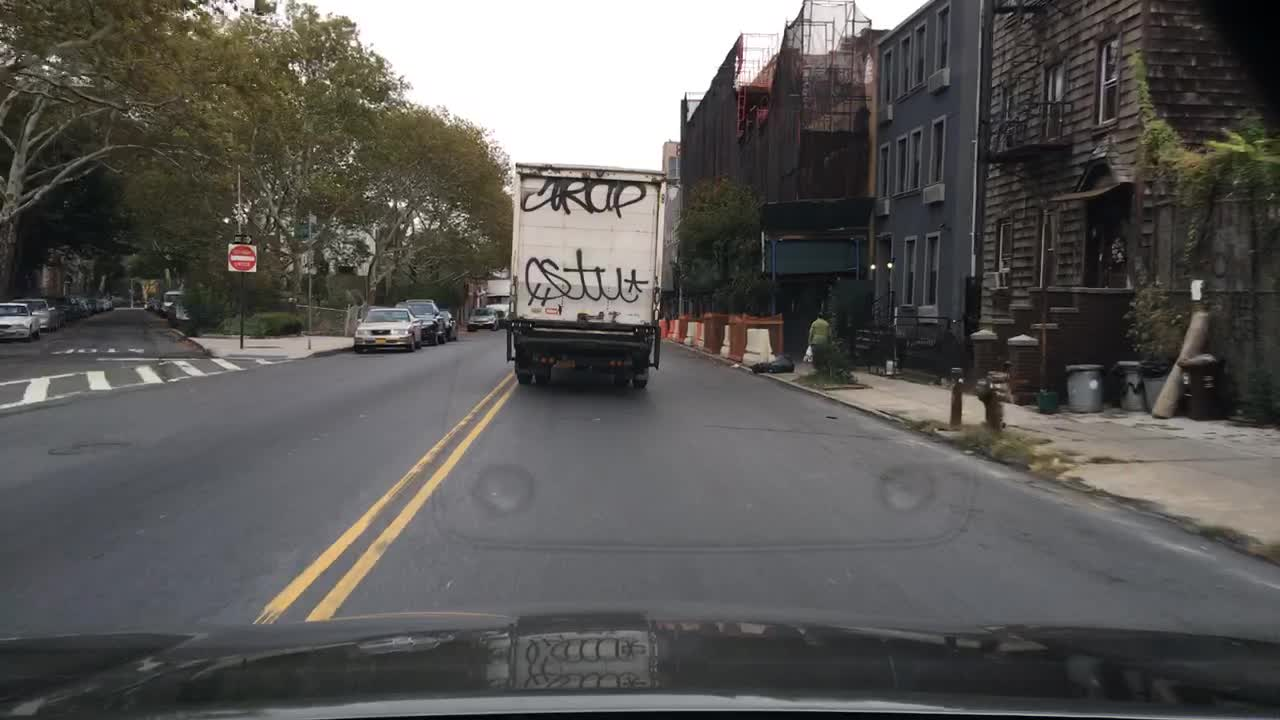car: (355, 308, 416, 356), (404, 299, 445, 344), (0, 301, 42, 344), (17, 301, 59, 334), (466, 309, 496, 336), (438, 313, 460, 343), (157, 290, 180, 314), (492, 304, 511, 331), (172, 301, 189, 329), (72, 296, 91, 318), (140, 296, 162, 313), (91, 291, 108, 311), (62, 301, 74, 325)
person: (800, 310, 833, 371)
traffic sign: (227, 243, 258, 274), (230, 232, 258, 247)
truck: (511, 160, 661, 391)
